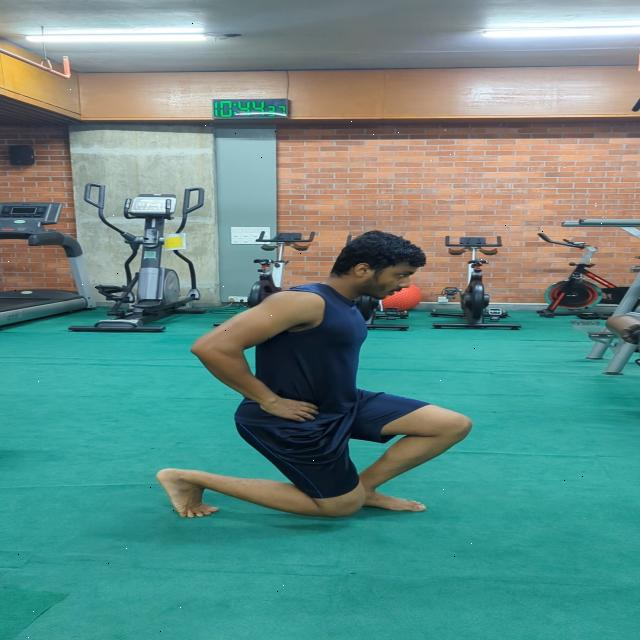Normal_Lunges: (148, 226, 477, 521)
